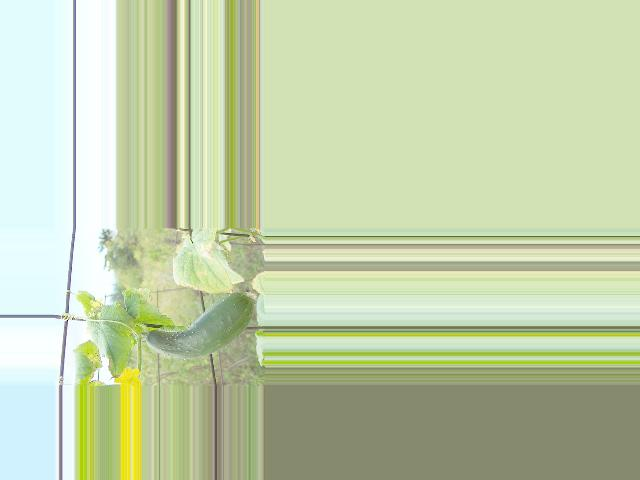cucumber: (144, 291, 253, 358)
